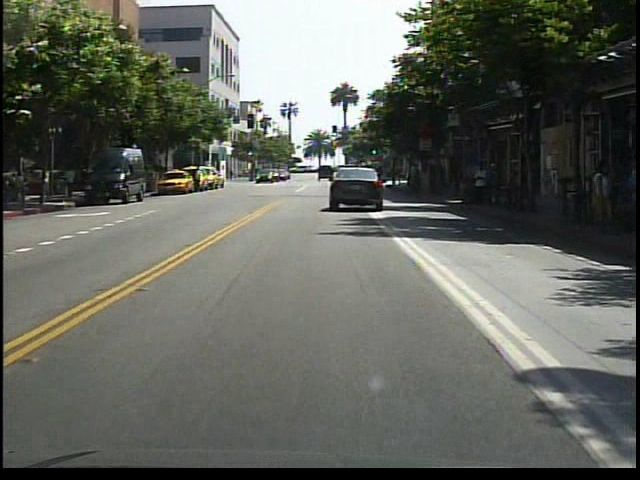person: (470, 162, 495, 216), (192, 162, 205, 197)
